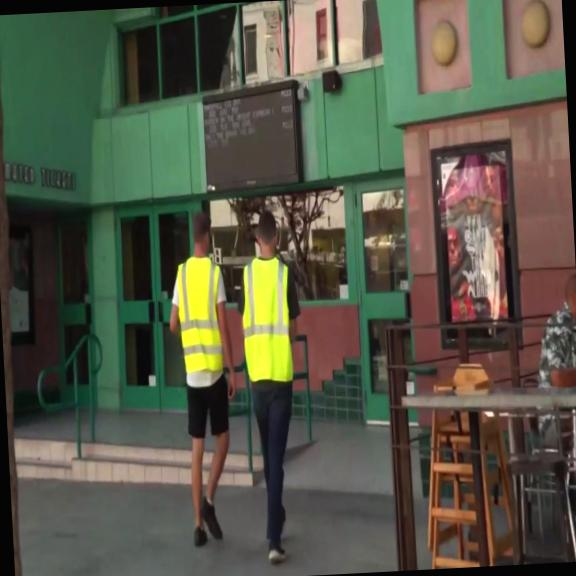safety_vest: (238, 256, 294, 386), (176, 253, 224, 374)
